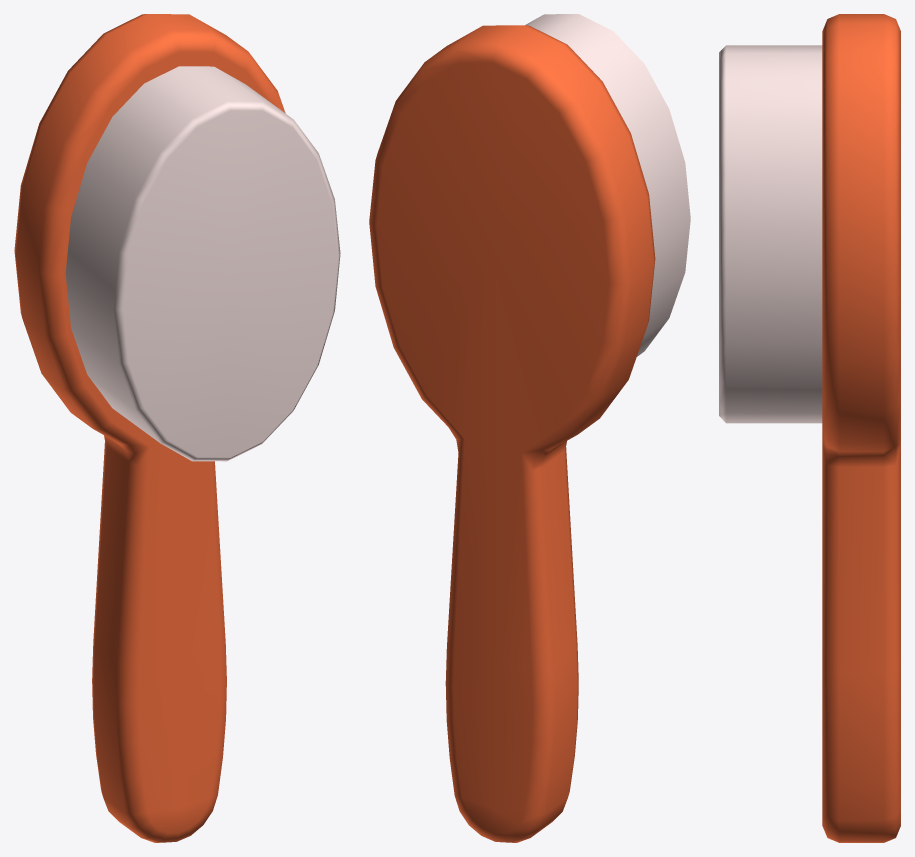
File: Public_15_Hairbrush_1.glb
3 renders of one model, left to right at view 1: azimuth 30°, elevation 25°; view 2: azimuth 150°, elevation 25°; view 3: azimuth 270°, elevation 25°, orthographic.
Visible parts, largest first — view 1: Public_15_Hairbrush_1; view 2: Public_15_Hairbrush_1; view 3: Public_15_Hairbrush_1.
Boxes of the visible parts, bbox=[...] form: Public_15_Hairbrush_1: bbox=[14, 14, 340, 842]; Public_15_Hairbrush_1: bbox=[369, 14, 690, 842]; Public_15_Hairbrush_1: bbox=[719, 14, 900, 842].
Size of the model in its own units: 1.13 by 3.33 by 0.6735.
Materials: 1 (1 with a texture image).
